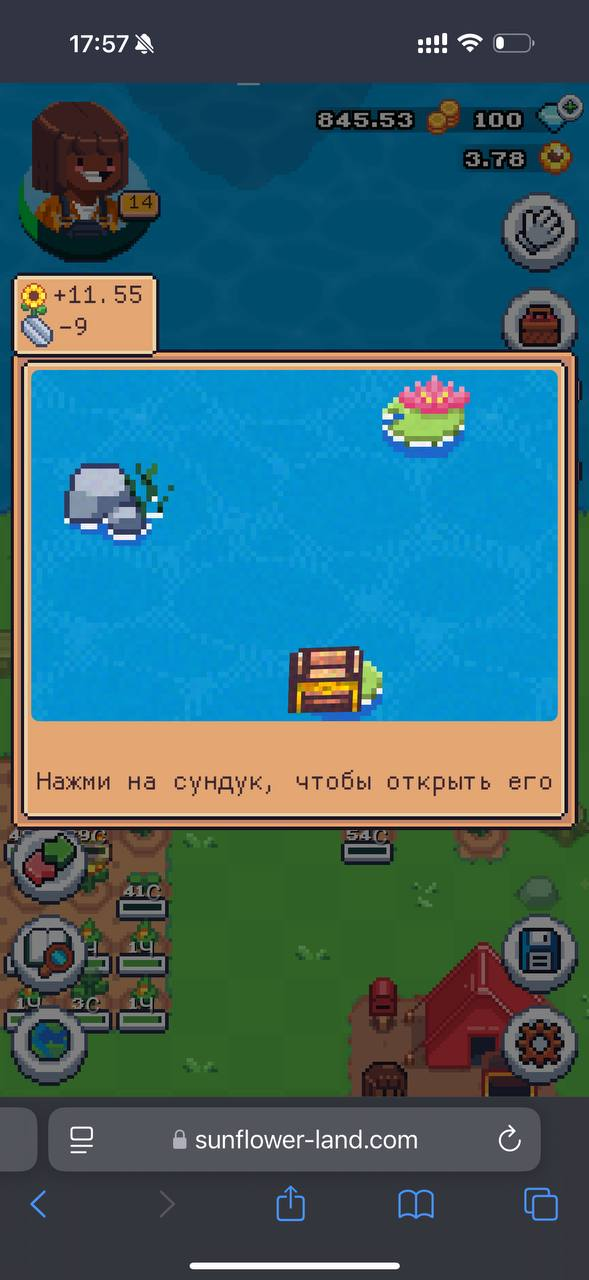capcha_chest: (286, 646, 365, 714)
